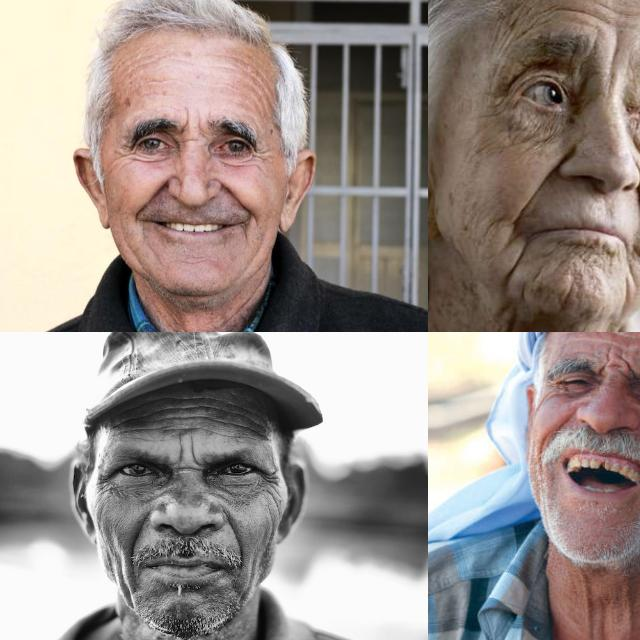chin: (562, 236, 602, 262), (553, 278, 577, 314)
crows_feet: (484, 85, 518, 132), (259, 466, 283, 500), (96, 471, 120, 495), (113, 142, 133, 168), (250, 146, 276, 166), (540, 382, 566, 400)
forehead: (550, 0, 609, 30), (184, 389, 223, 428), (498, 0, 532, 38), (229, 401, 261, 441), (569, 332, 611, 349), (153, 394, 180, 420), (250, 74, 268, 110), (120, 407, 142, 433), (123, 52, 161, 66), (217, 50, 243, 68), (145, 72, 173, 86), (624, 332, 640, 348)
frown_line: (171, 436, 201, 474), (601, 41, 619, 95), (178, 108, 202, 146), (616, 353, 640, 379), (594, 355, 610, 383)
gummy_smile: (524, 153, 568, 210), (124, 516, 150, 566), (225, 515, 249, 557), (219, 184, 253, 212), (628, 171, 640, 241), (140, 185, 168, 211), (548, 414, 572, 436)
masseter: (114, 572, 136, 604)
sad_smile: (616, 257, 640, 313), (500, 238, 526, 286)
